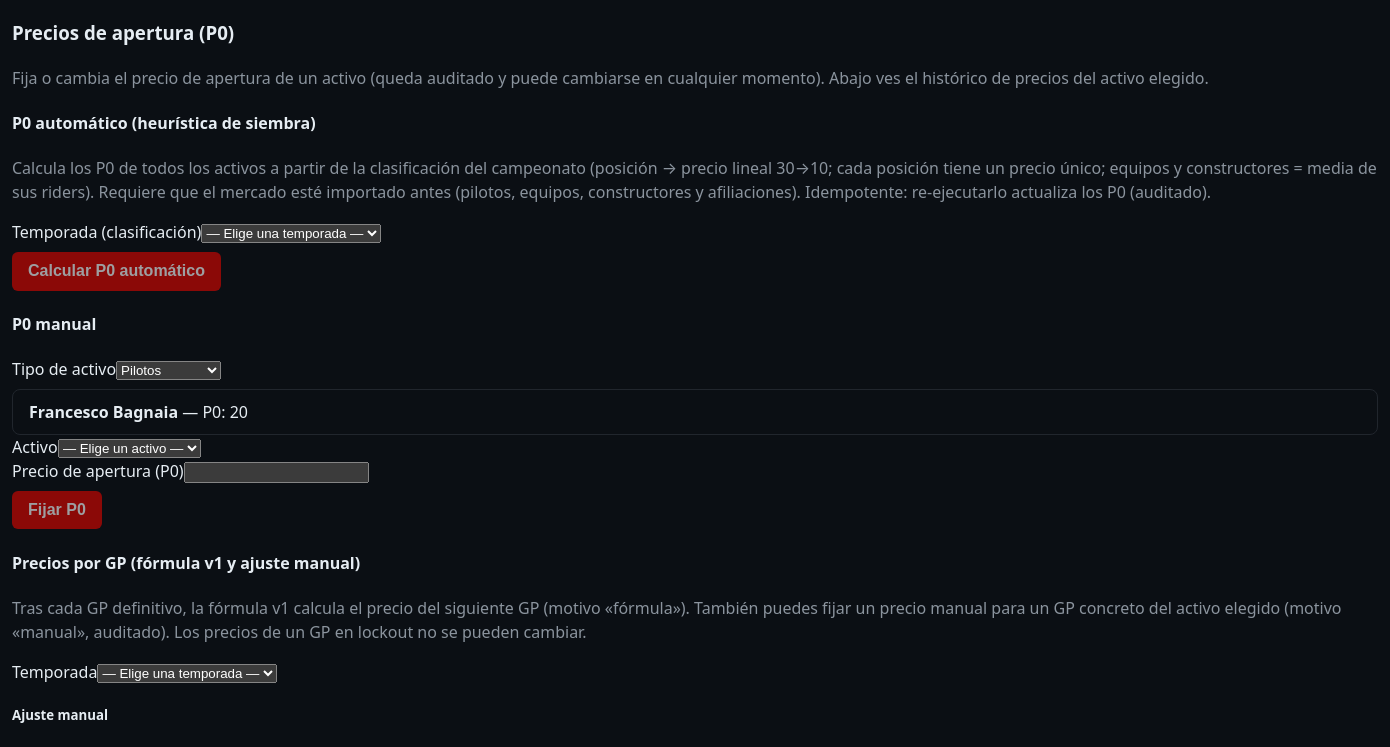
Test case: PricesPanel · Precios por GP (US-08) › muestra el estado de carga de la lista de GPs
This screenshot has width=1390, height=747.
Select "MotoGP 2099 (2099)" in the dropdown labelled "Temporada" at (187, 673), box x1=97 y1=664 x2=277 y2=683
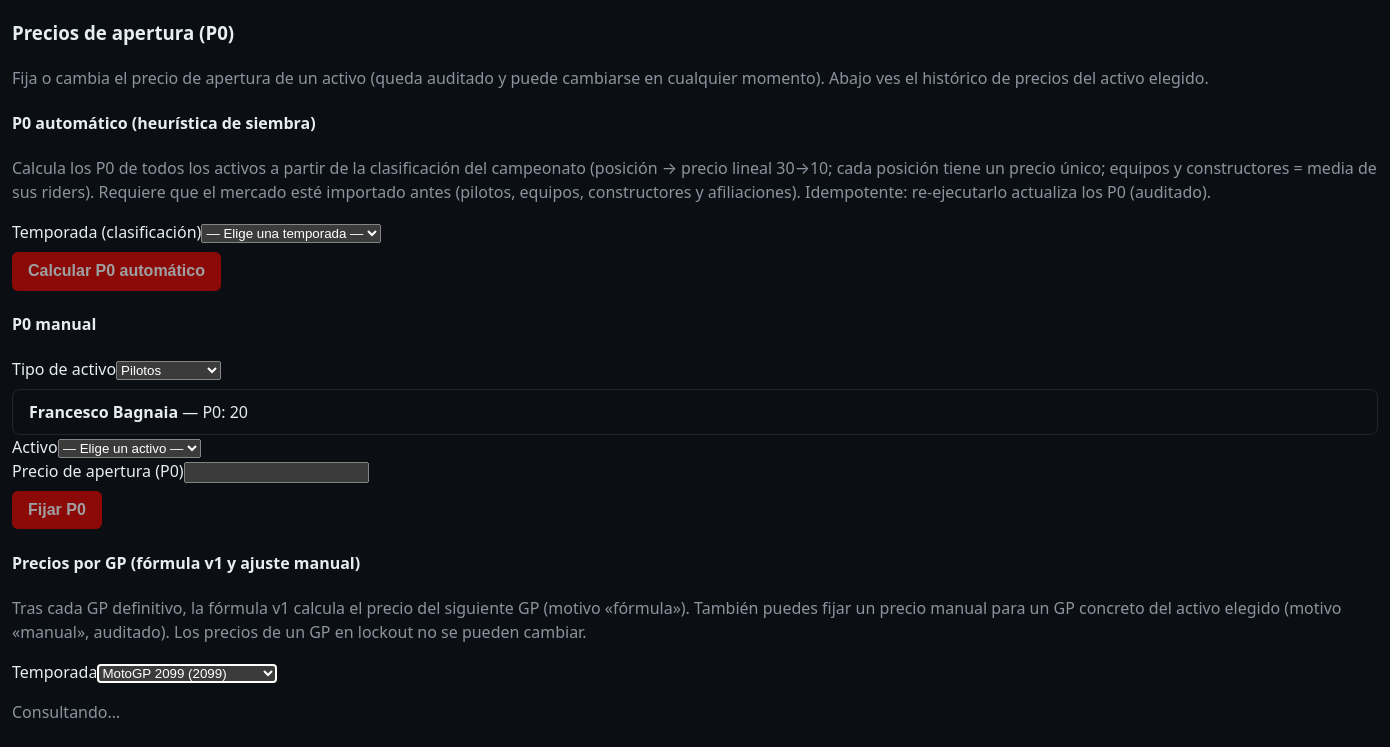
Now the text "Consultando…" is shown, box x1=12 y1=701 x2=120 y2=723
